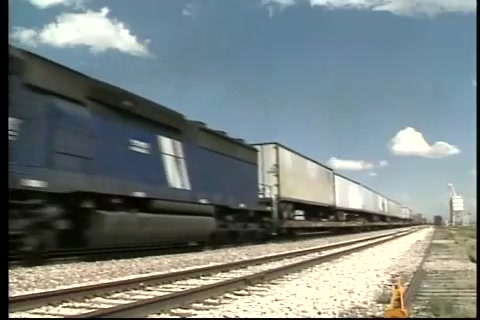train: (9, 42, 413, 263)
